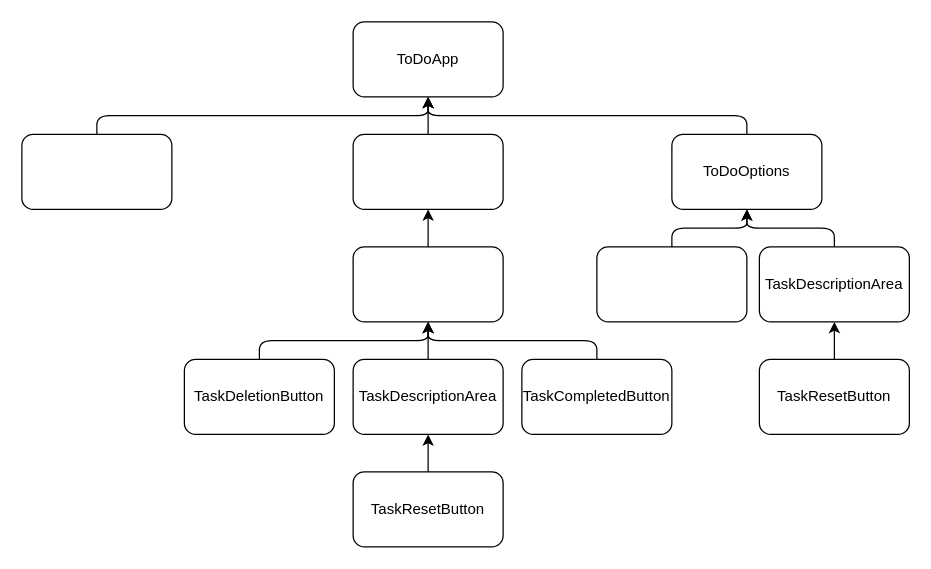
The diagram is 931 pixels wide and 569 high, and some of its shapes have lost their labels. The centre of each missing label's shape, as x and y in pixels:
"AddTaskButton" goes at point (671, 284).
"TaskList" goes at point (427, 171).
"TaskRow" goes at point (427, 284).
"ToDoHeader" goes at point (96, 171).
